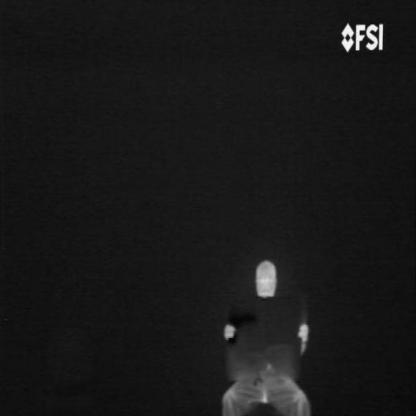weapon: (224, 304, 258, 348)
